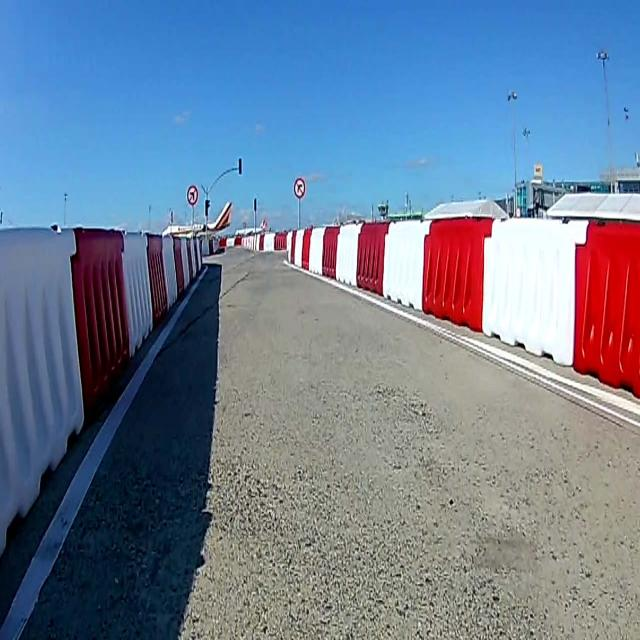sagadonulmez: (294, 178, 305, 198)
soladonulmez: (187, 185, 197, 205)
